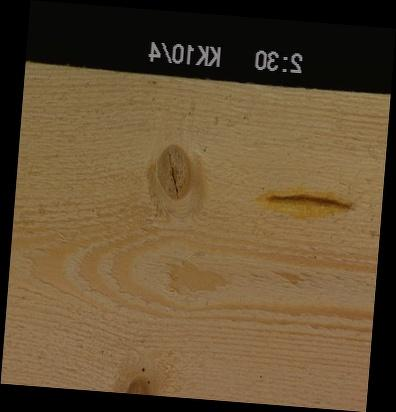edge_knot: (120, 363, 155, 393)
sound_knot: (154, 141, 194, 202)
